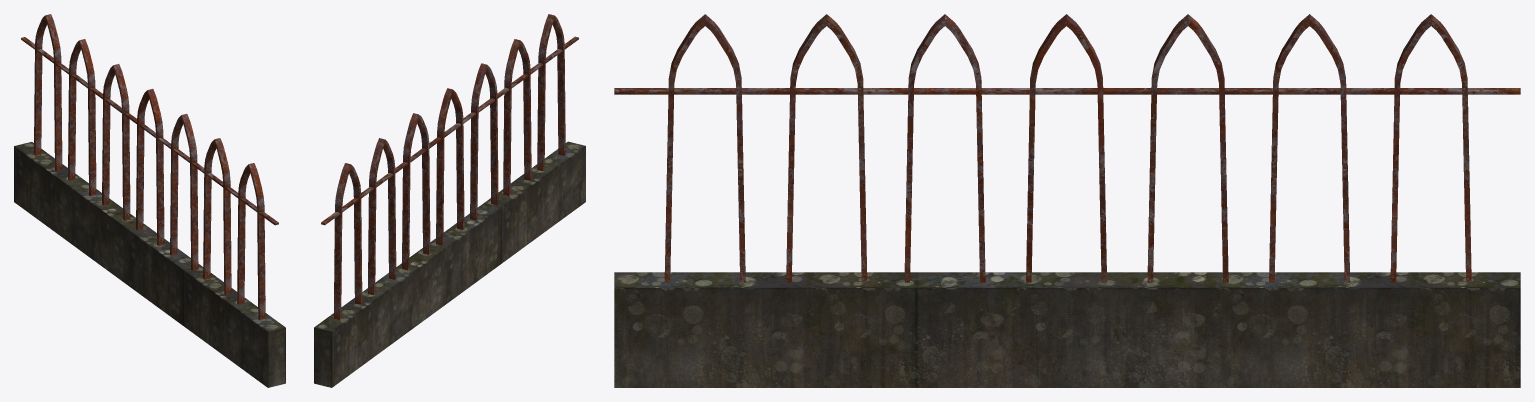
The model's file is SM_TombRailingsB.fbx.
3 views of the same model, side by side, from view 1: azimuth 30°, elevation 25°; view 2: azimuth 150°, elevation 25°; view 3: azimuth 270°, elevation 25° (orthographic). The views are drawn at different scales.
Parts seen in each view (by area): view 1: SM_TombRailingsB_LOD0; view 2: SM_TombRailingsB_LOD0; view 3: SM_TombRailingsB_LOD0.
Part boxes in pixels (<box>): SM_TombRailingsB_LOD0: <box>14,14,285,387</box>; SM_TombRailingsB_LOD0: <box>314,14,585,387</box>; SM_TombRailingsB_LOD0: <box>614,14,1520,387</box>.
Bounding box in the file's own units: 12.2 × 300 × 133.
Materials: 1 (1 with a texture image).
